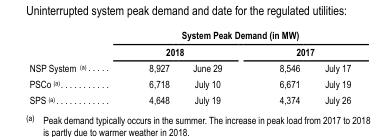table: (28, 28, 350, 105)
table column: (28, 28, 116, 105), (180, 28, 250, 105), (116, 28, 180, 105), (250, 28, 311, 105), (311, 28, 350, 105)
table column header: (28, 28, 350, 75)
table row: (28, 42, 350, 59), (28, 59, 350, 75), (28, 75, 350, 91), (28, 28, 350, 42), (28, 91, 350, 105)
table spanning cell: (28, 28, 116, 75), (116, 28, 350, 42), (116, 42, 250, 59), (250, 42, 350, 59)
